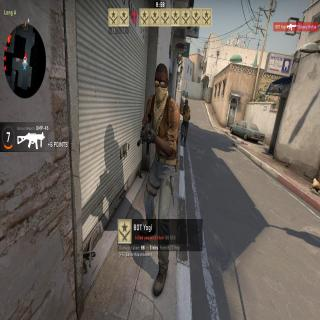T-Body: (138, 63, 180, 297), (180, 97, 190, 147)
T-Head: (155, 64, 167, 102), (184, 98, 188, 110)
